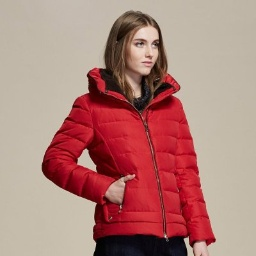face: (105, 9, 169, 86)
